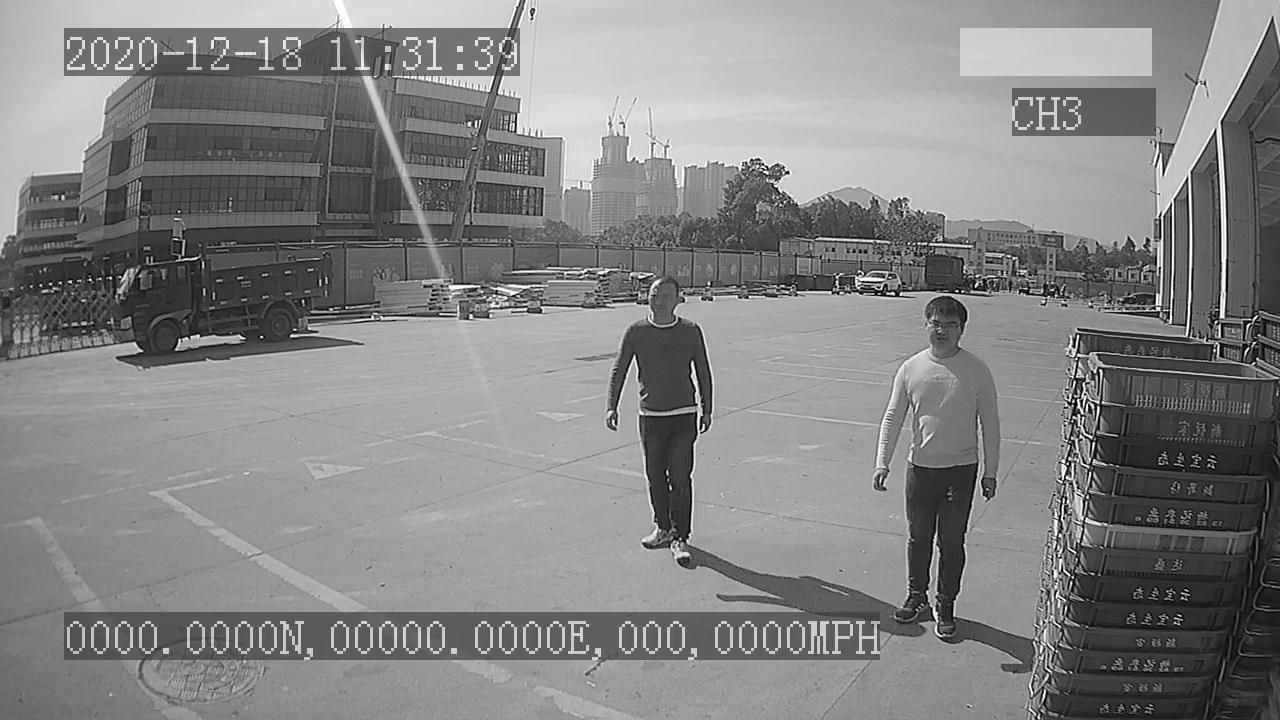person: (876, 293, 1005, 638), (603, 273, 715, 571)
